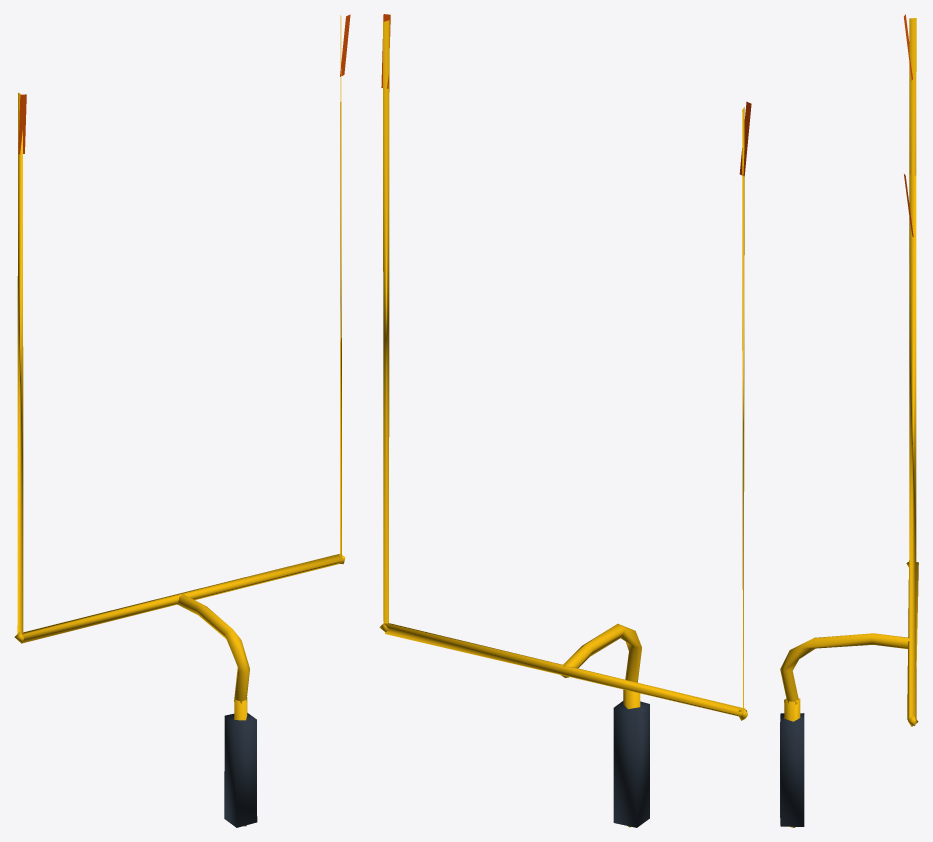
File: goalpost_college_lod2.glb
3 renders of one model, left to right at view 1: azimuth 30°, elevation 25°; view 2: azimuth 150°, elevation 25°; view 3: azimuth 270°, elevation 25°, orthographic. The views are drawn at different scales.
Parts seen in each view (by area): view 1: goalpost_college_lod2; view 2: goalpost_college_lod2; view 3: goalpost_college_lod2.
Part boxes in pixels (x1,y1,x2,y2): goalpost_college_lod2: [14, 14, 350, 827]; goalpost_college_lod2: [379, 14, 751, 827]; goalpost_college_lod2: [780, 14, 918, 827].
Bounding box in the file's own units: 5.83 × 12.23 × 2.11.
